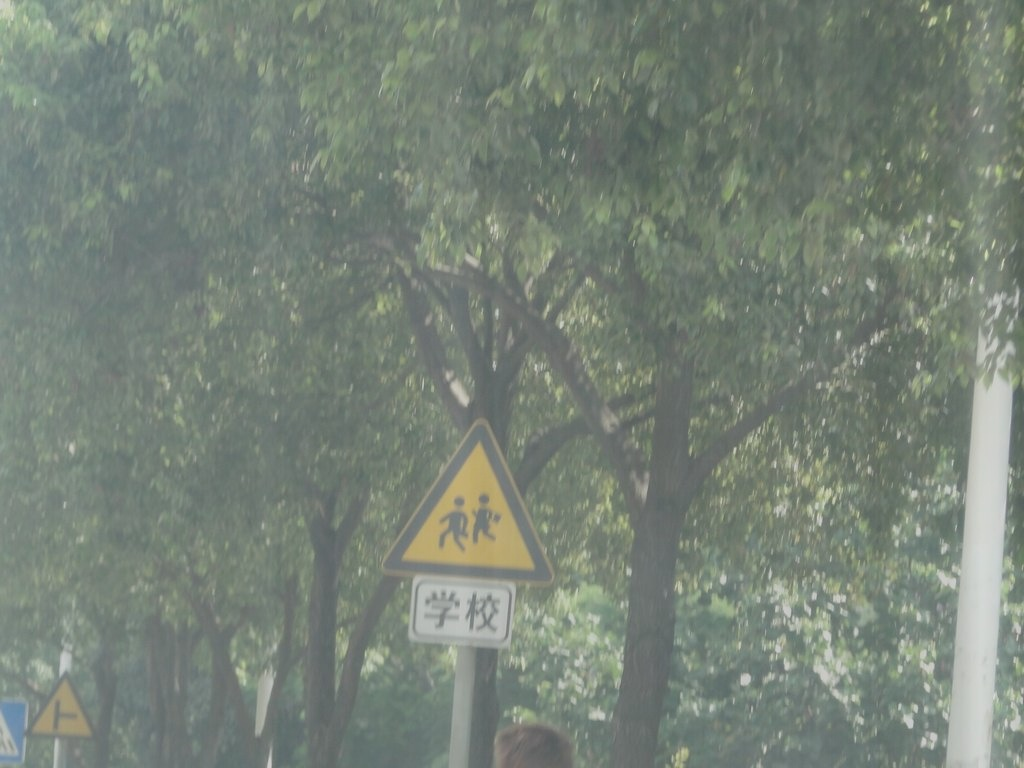Warning Signs: (378, 416, 557, 587), (21, 669, 97, 742)
